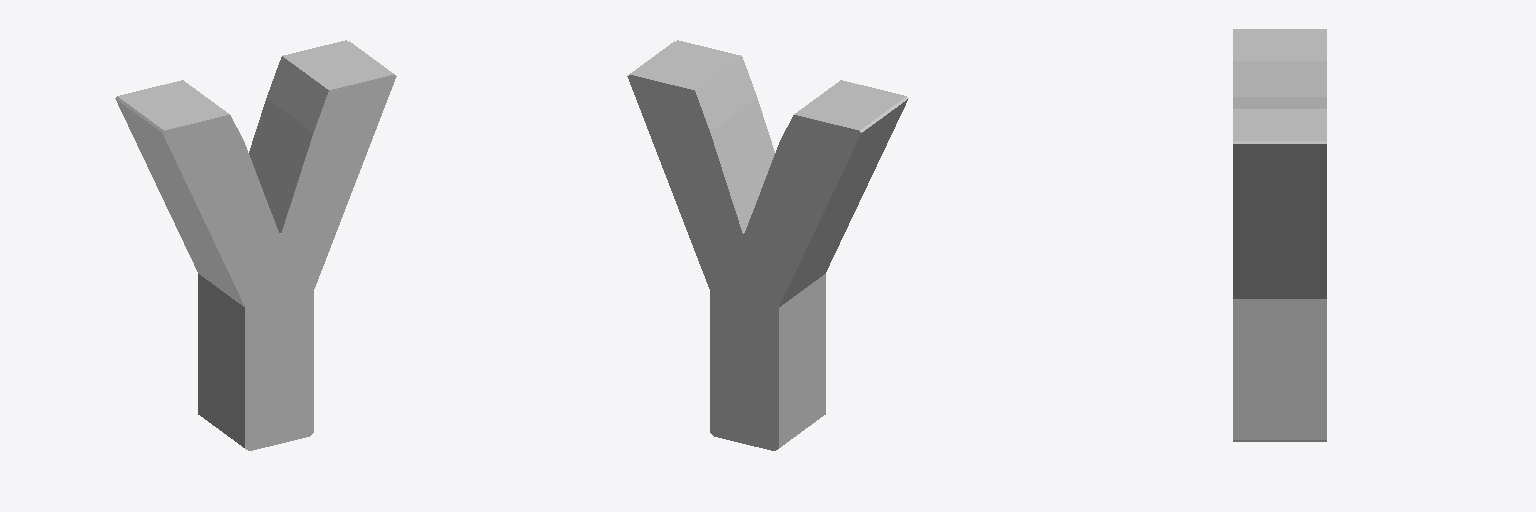
The picture shows the model from 3 angles: view 1: azimuth 30°, elevation 25°; view 2: azimuth 150°, elevation 25°; view 3: azimuth 270°, elevation 25°; orthographic projection.
Visible parts, largest first — view 1: text: ABCDEFGHIJKLMNOPQRSTUVWXYZ[number redacted]; view 2: text: ABCDEFGHIJKLMNOPQRSTUVWXYZ[number redacted]; view 3: text: ABCDEFGHIJKLMNOPQRSTUVWXYZ[number redacted].
Boxes of the visible parts, x1=… form: text: ABCDEFGHIJKLMNOPQRSTUVWXYZ[number redacted]: x1=115, y1=40, x2=396, y2=450; text: ABCDEFGHIJKLMNOPQRSTUVWXYZ[number redacted]: x1=627, y1=40, x2=908, y2=450; text: ABCDEFGHIJKLMNOPQRSTUVWXYZ[number redacted]: x1=1233, y1=29, x2=1326, y2=441.
Bounding box in the file's own units: 71.63 × 99.72 × 25.